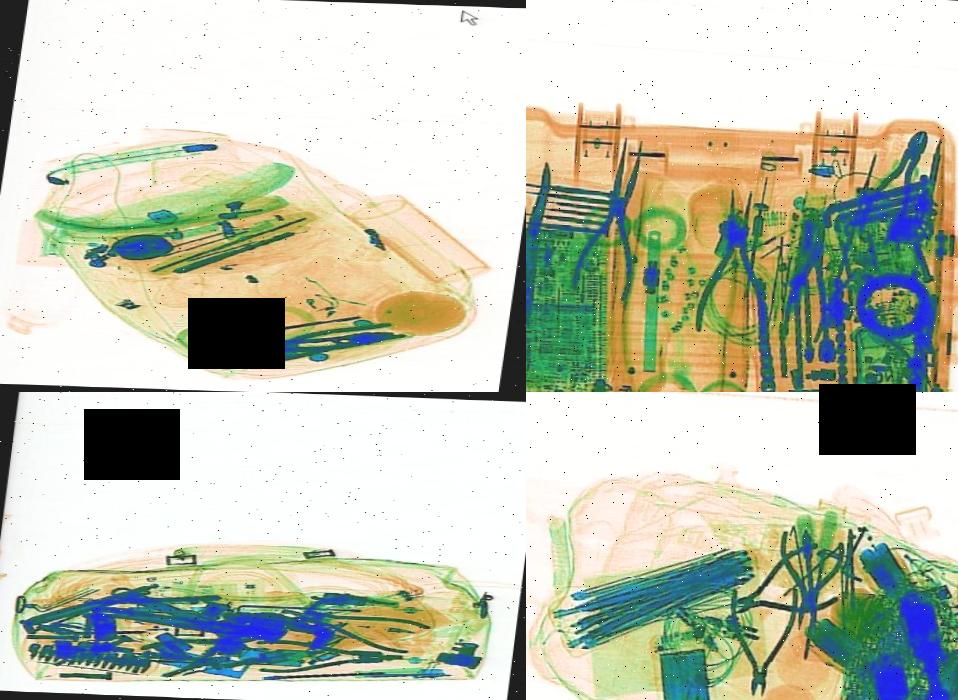Pliers: (565, 132, 665, 302), (706, 534, 862, 640), (686, 186, 788, 338), (199, 312, 397, 376), (845, 122, 951, 239), (762, 525, 846, 661), (266, 593, 436, 656), (720, 582, 802, 696), (132, 616, 270, 680), (238, 320, 394, 368), (249, 634, 403, 677), (526, 158, 551, 332)
Wrench: (96, 575, 275, 649)
